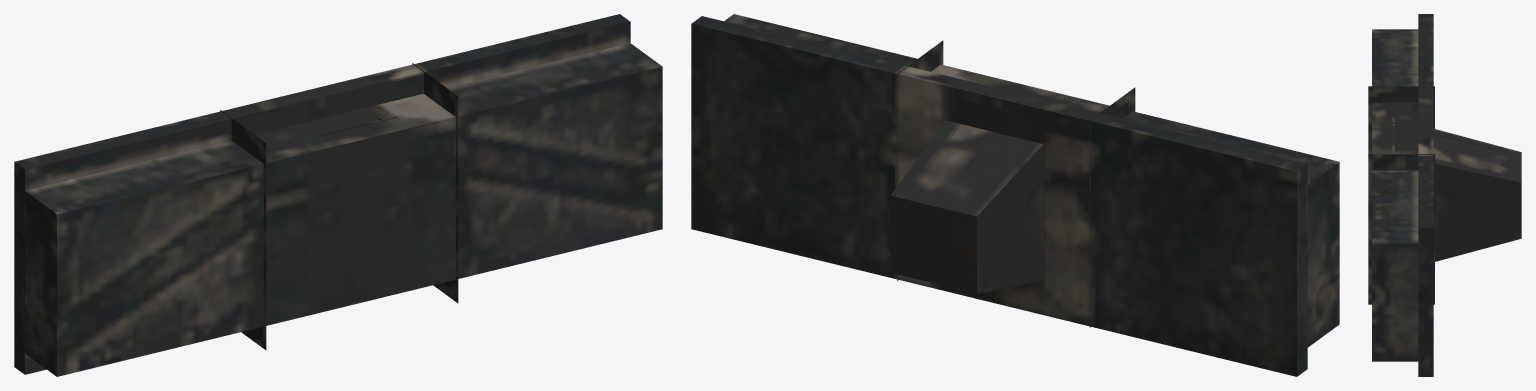
Rendered from segment_pair_0_L.glb.
The picture shows the model from 3 angles, left to right: view 1: azimuth 30°, elevation 25°; view 2: azimuth 150°, elevation 25°; view 3: azimuth 270°, elevation 25°; orthographic projection. The views are drawn at different scales.
Visible parts, largest first — view 1: set_0_group_0; view 2: set_0_group_0; view 3: set_0_group_0.
Boxes of the visible parts, box(x1,y1,x2,y2) form: set_0_group_0: box(14, 14, 662, 376); set_0_group_0: box(691, 14, 1339, 376); set_0_group_0: box(1368, 14, 1521, 376).
Bounding box in the file's own units: 0.4102 × 0.1341 × 0.124.
1 material, 1 textured.
